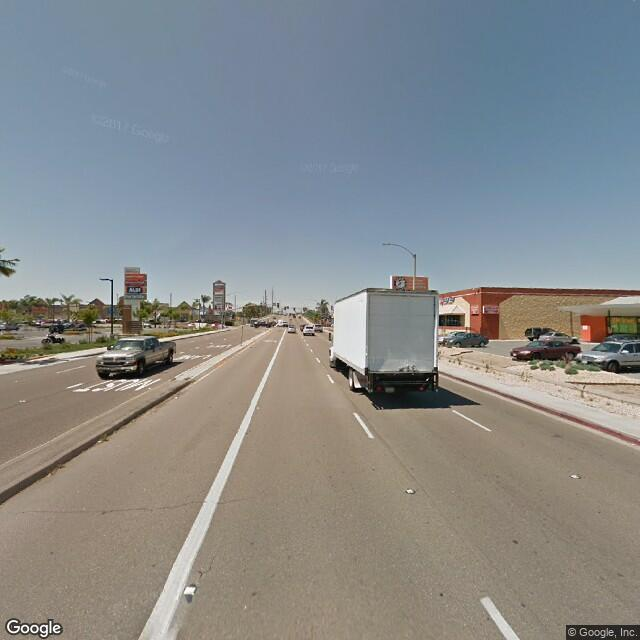litter: (170, 393, 180, 402), (100, 438, 108, 444)
